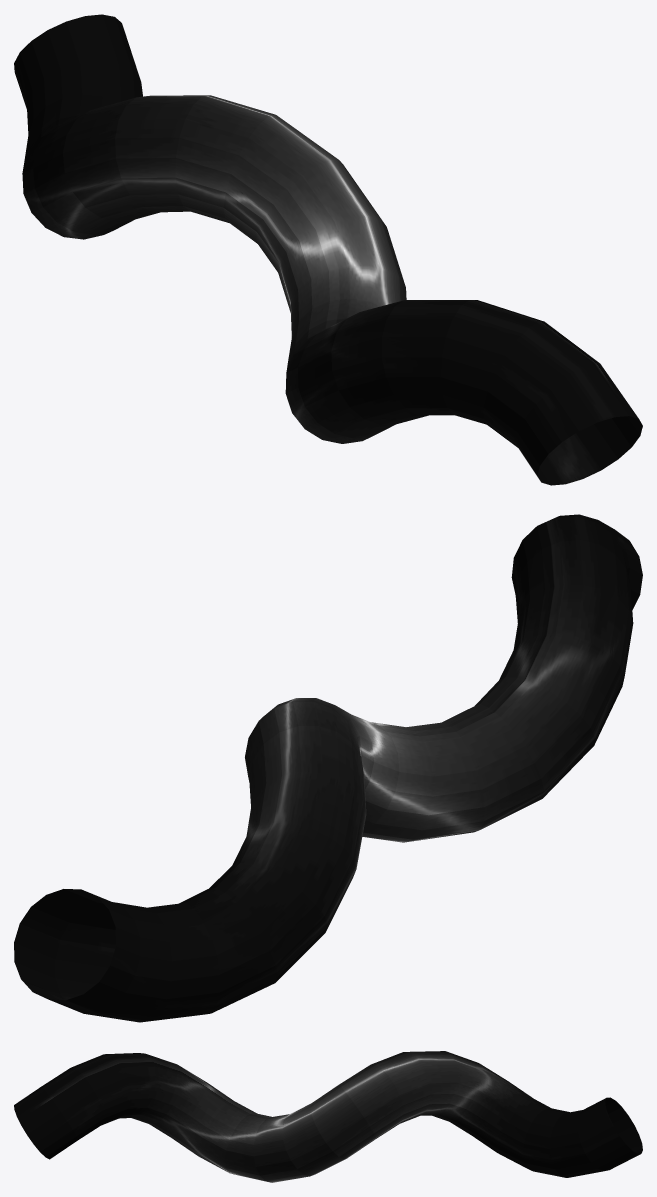
File: 0055_HT_FX_ShuangShouBaoLong_luoxuan.glb
3 views of the same model, one above another, from view 1: azimuth 30°, elevation 25°; view 2: azimuth 150°, elevation 25°; view 3: azimuth 270°, elevation 25° (orthographic). The views are drawn at different scales.
Size of the model in its own units: 0.4628 by 0.4653 by 2.2.
Materials: 1 (1 with a texture image).
